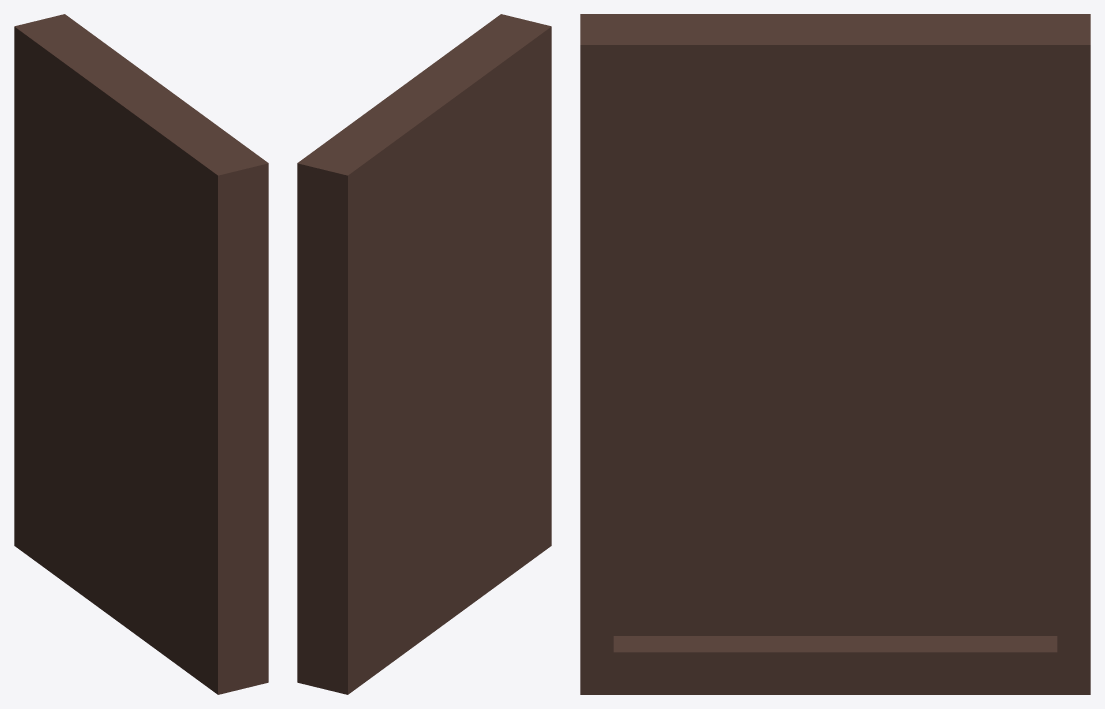
Rendered from Frame01.fbx.
3 renders of one model, left to right at view 1: azimuth 30°, elevation 25°; view 2: azimuth 150°, elevation 25°; view 3: azimuth 270°, elevation 25°, orthographic. The views are drawn at different scales.
Parts seen in each view (by area): view 1: Frame; view 2: Frame; view 3: Frame.
Boxes of the visible parts, <box> form: Frame: <box>14,14,268,694</box>; Frame: <box>297,14,551,694</box>; Frame: <box>580,14,1090,694</box>.
Bounding box in the file's own units: 1052 × 10289 × 7324.
